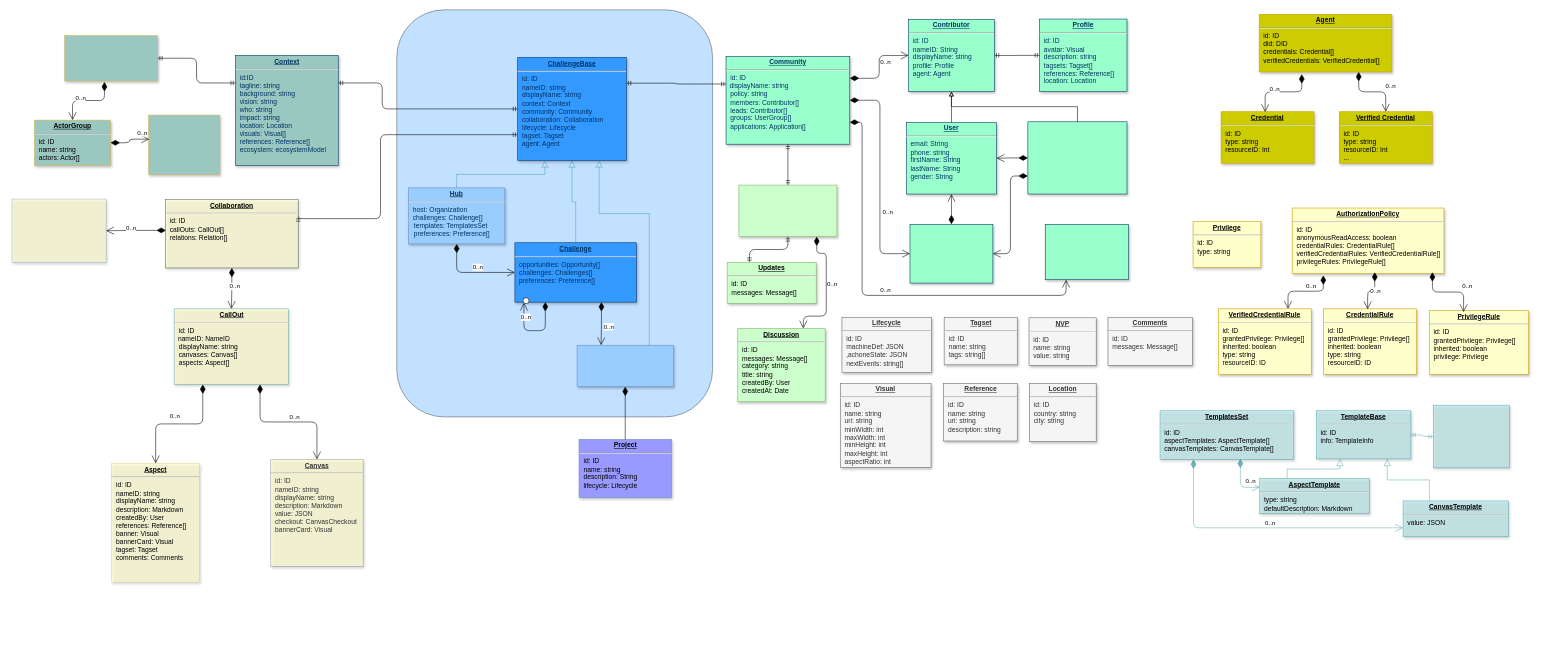
Some shapes in this 1542 by 650 pixel diagram are drawn without their labels. Here are the shapes that lost their labels. From the top down, the centre of each, then its label:
At [111,59]: "EcosystemModel id: ID name: string actorsGroups: ActorGroup[]".
At [184,145]: "Actor id: ID name: string description: string value: string impact: string".
At [1077,158]: "Organization groups: UserGroup[] members: User[] verification: Verification".
At [59,231]: "Relation id: ID name: string type: string role: string description: string".
At [788,211]: "Communication id: ID updates: Updates discussions: Discussion[]".
At [951,254]: "UserGroup id: ID name: string members: User[] profile: Profile".
At [1087,252]: "Application id: ID user: User livecycle: Lifecycle questions: NVP[]".
At [625,366]: "Opportunity projects: Project[]".
At [1472,437]: "TemplateInfo title: string description: Markdown visual: Visual tagset: Tagset".
